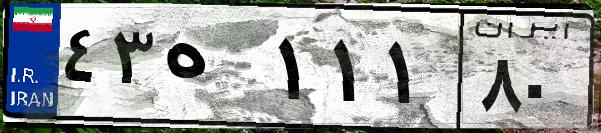0: (525, 38, 570, 115)
1: (270, 28, 330, 110), (385, 28, 445, 110), (330, 28, 385, 110)
3: (110, 28, 158, 98)
4: (57, 26, 110, 100)
8: (475, 38, 525, 113)
ه: (158, 20, 270, 120)
